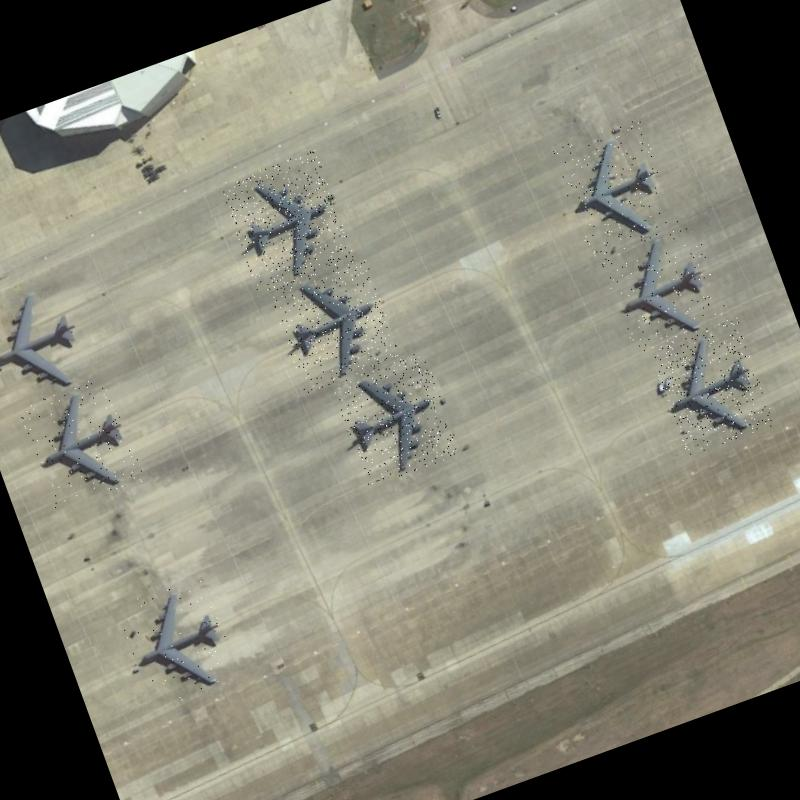A8: (218, 149, 356, 295), (268, 255, 403, 395), (549, 116, 679, 259), (330, 349, 461, 487), (113, 574, 242, 713), (648, 317, 776, 456), (598, 221, 730, 355), (17, 374, 145, 512), (0, 276, 102, 411)
